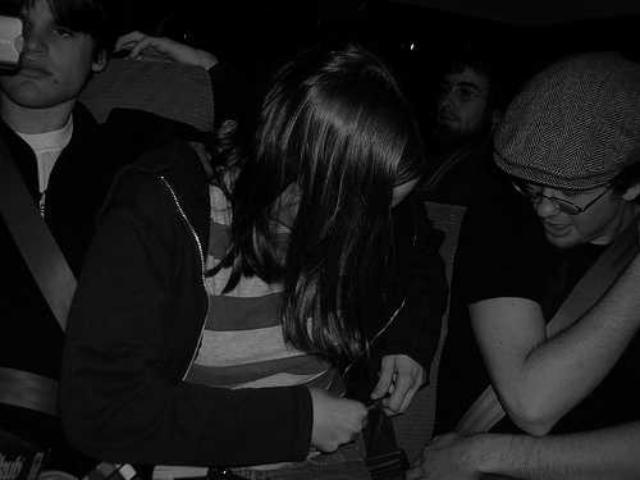SafeDriving: (45, 21, 82, 42)
Seatbelt: (448, 216, 640, 436), (0, 187, 82, 417)
